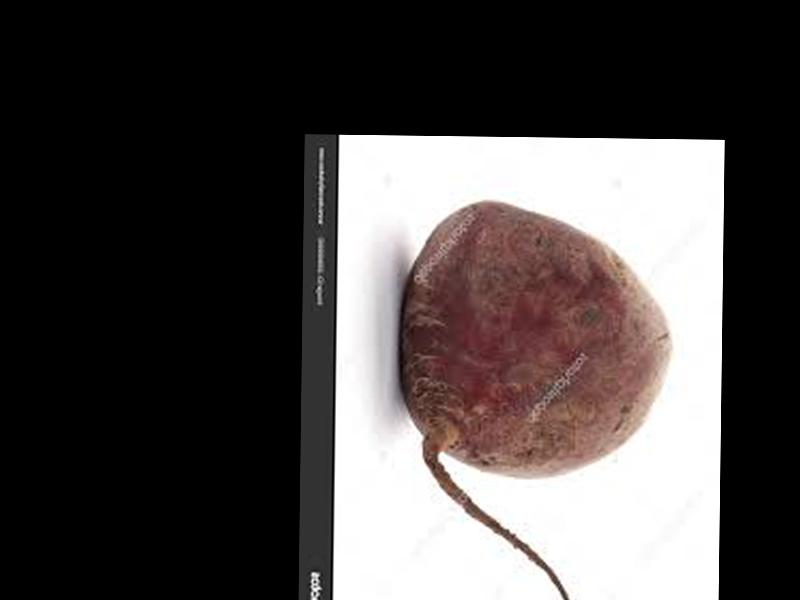Beet: (396, 200, 669, 600)
